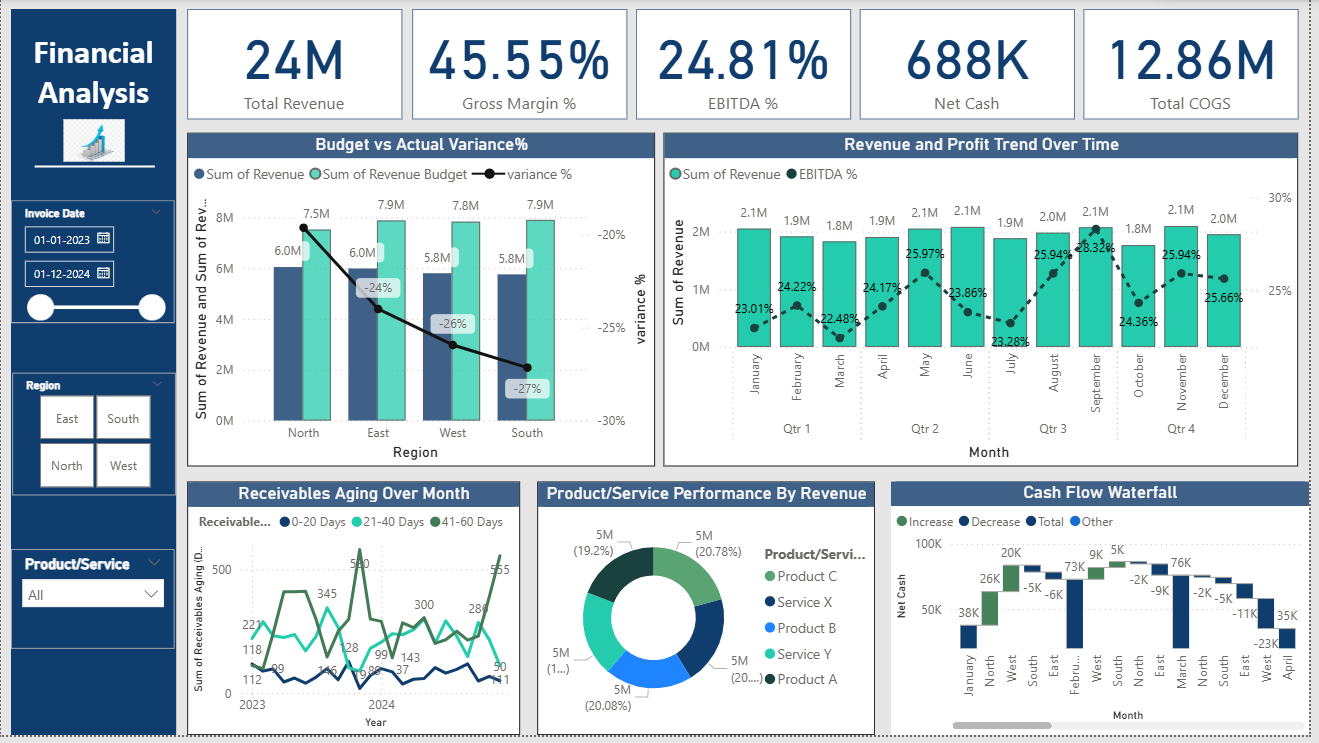

What the dashboard file says about the page in this screenshot:
{"tool":"powerbi","page":{"name":"Page 1","canvas":[1280,720],"ordinal":0},"visuals":[{"type":"textbox","box":[9.8,9.8,161.4,710.5],"z":0},{"type":"shape","box":[33,157.7,117.4,12.2],"z":1000},{"type":"card","fields":{"Values":["Sum(Data.Revenue)"]},"box":[182.2,9.8,210,107.6],"z":2000},{"type":"card","fields":{"Values":["Data.Gross Profit %"]},"box":[402.3,9.8,210.3,107.6],"z":3000},{"type":"card","fields":{"Values":["Data.EBITDA %"]},"box":[621,9.8,210.3,107.6],"z":4000},{"type":"card","fields":{"Values":["Data.Net Cash"]},"box":[840.1,9.8,210.3,107.6],"z":5000},{"type":"lineStackedColumnComboChart","title":"Revenue and Profit Trend Over Time","fields":{"Category":["Data.Invoice Date.Variation.Date Hierarchy.Quarter","Data.Month.Variation.Date Hierarchy.Month"],"Y":["Sum(Data.Revenue)"],"Y2":["Data.EBITDA %"]},"box":[648.1,130.8,621.2,326.5],"z":6000},{"type":"lineClusteredColumnComboChart","title":"Budget vs Actual Variance%","fields":{"Category":["Data.Region"],"Y":["Sum(Data.Revenue)","Sum(Data.Revenue Budget)"],"Y2":["Data.variance %"]},"box":[182.2,130.8,457.3,326.5],"z":7000},{"type":"donutChart","title":"Product/Service Performance By Revenue","fields":{"Category":["Data.Product/Service"],"Y":["Sum(Data.Revenue)"]},"box":[524.6,472,330.2,248.2],"z":8000},{"type":"lineChart","title":"Receivables Aging Over Month","fields":{"Y":["Sum(Data.Receivables Aging (Days))"],"Series":["Data.Receivables aging binned"],"Category":["Data.Invoice Date.Variation.Date Hierarchy.Year","Data.Invoice Date.Variation.Date Hierarchy.Quarter","Data.Invoice Date.Variation.Date Hierarchy.Month","Data.Invoice Date.Variation.Date Hierarchy.Day"]},"box":[182.2,472,325.3,248.2],"z":9000},{"type":"waterfallChart","title":"Cash Flow Waterfall","fields":{"Category":["Data.Invoice Date.Variation.Date Hierarchy.Month"],"Y":["Data.Net Cash"],"Breakdown":["Data.Region"]},"box":[870.7,472,409.6,248.2],"z":10000},{"type":"card","fields":{"Values":["Sum(Data.COGS)"]},"box":[1059,9.8,210.3,107.6],"z":11000},{"type":"slicer","fields":{"Values":["Data.Invoice Date"]},"box":[9.8,196.9,160.2,119.8],"z":12000},{"type":"slicer","fields":{"Values":["Data.Product/Service"]},"box":[9.8,538,160.2,97.8],"z":12001},{"type":"slicer","fields":{"Values":["Data.Region"]},"box":[11,365.6,160.2,119.8],"z":12002},{"type":"image","box":[56.3,106.4,69.7,63.6],"z":12004}]}

Visuals, with their boxes in screenshot pixels (x1, y1, x2, y2), scaled from the page's 1280x720 canvas onto the 1319x743 screenshot:
textbox: select_region(10, 10, 176, 742)
shape: select_region(34, 163, 155, 175)
card - Sum(Data.Revenue): select_region(188, 10, 404, 121)
card - Data.Gross Profit %: select_region(415, 10, 631, 121)
card - Data.EBITDA %: select_region(640, 10, 857, 121)
card - Data.Net Cash: select_region(866, 10, 1082, 121)
"Revenue and Profit Trend Over Time" lineStackedColumnComboChart: select_region(668, 135, 1308, 472)
"Budget vs Actual Variance%" lineClusteredColumnComboChart: select_region(188, 135, 659, 472)
"Product/Service Performance By Revenue" donutChart: select_region(541, 487, 881, 742)
"Receivables Aging Over Month" lineChart: select_region(188, 487, 523, 742)
"Cash Flow Waterfall" waterfallChart: select_region(897, 487, 1318, 742)
card - Sum(Data.COGS): select_region(1091, 10, 1308, 121)
slicer - Data.Invoice Date: select_region(10, 203, 175, 327)
slicer - Data.Product/Service: select_region(10, 555, 175, 656)
slicer - Data.Region: select_region(11, 377, 176, 501)
image: select_region(58, 110, 130, 175)
